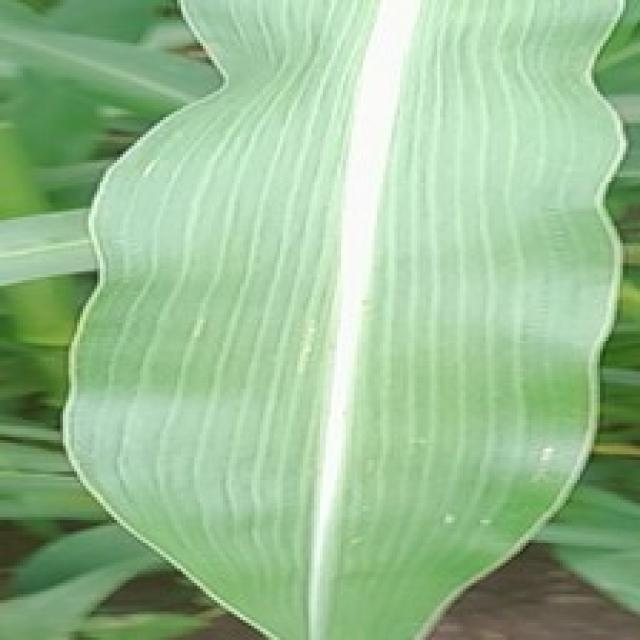Corn: (57, 0, 632, 637), (529, 0, 637, 637)
